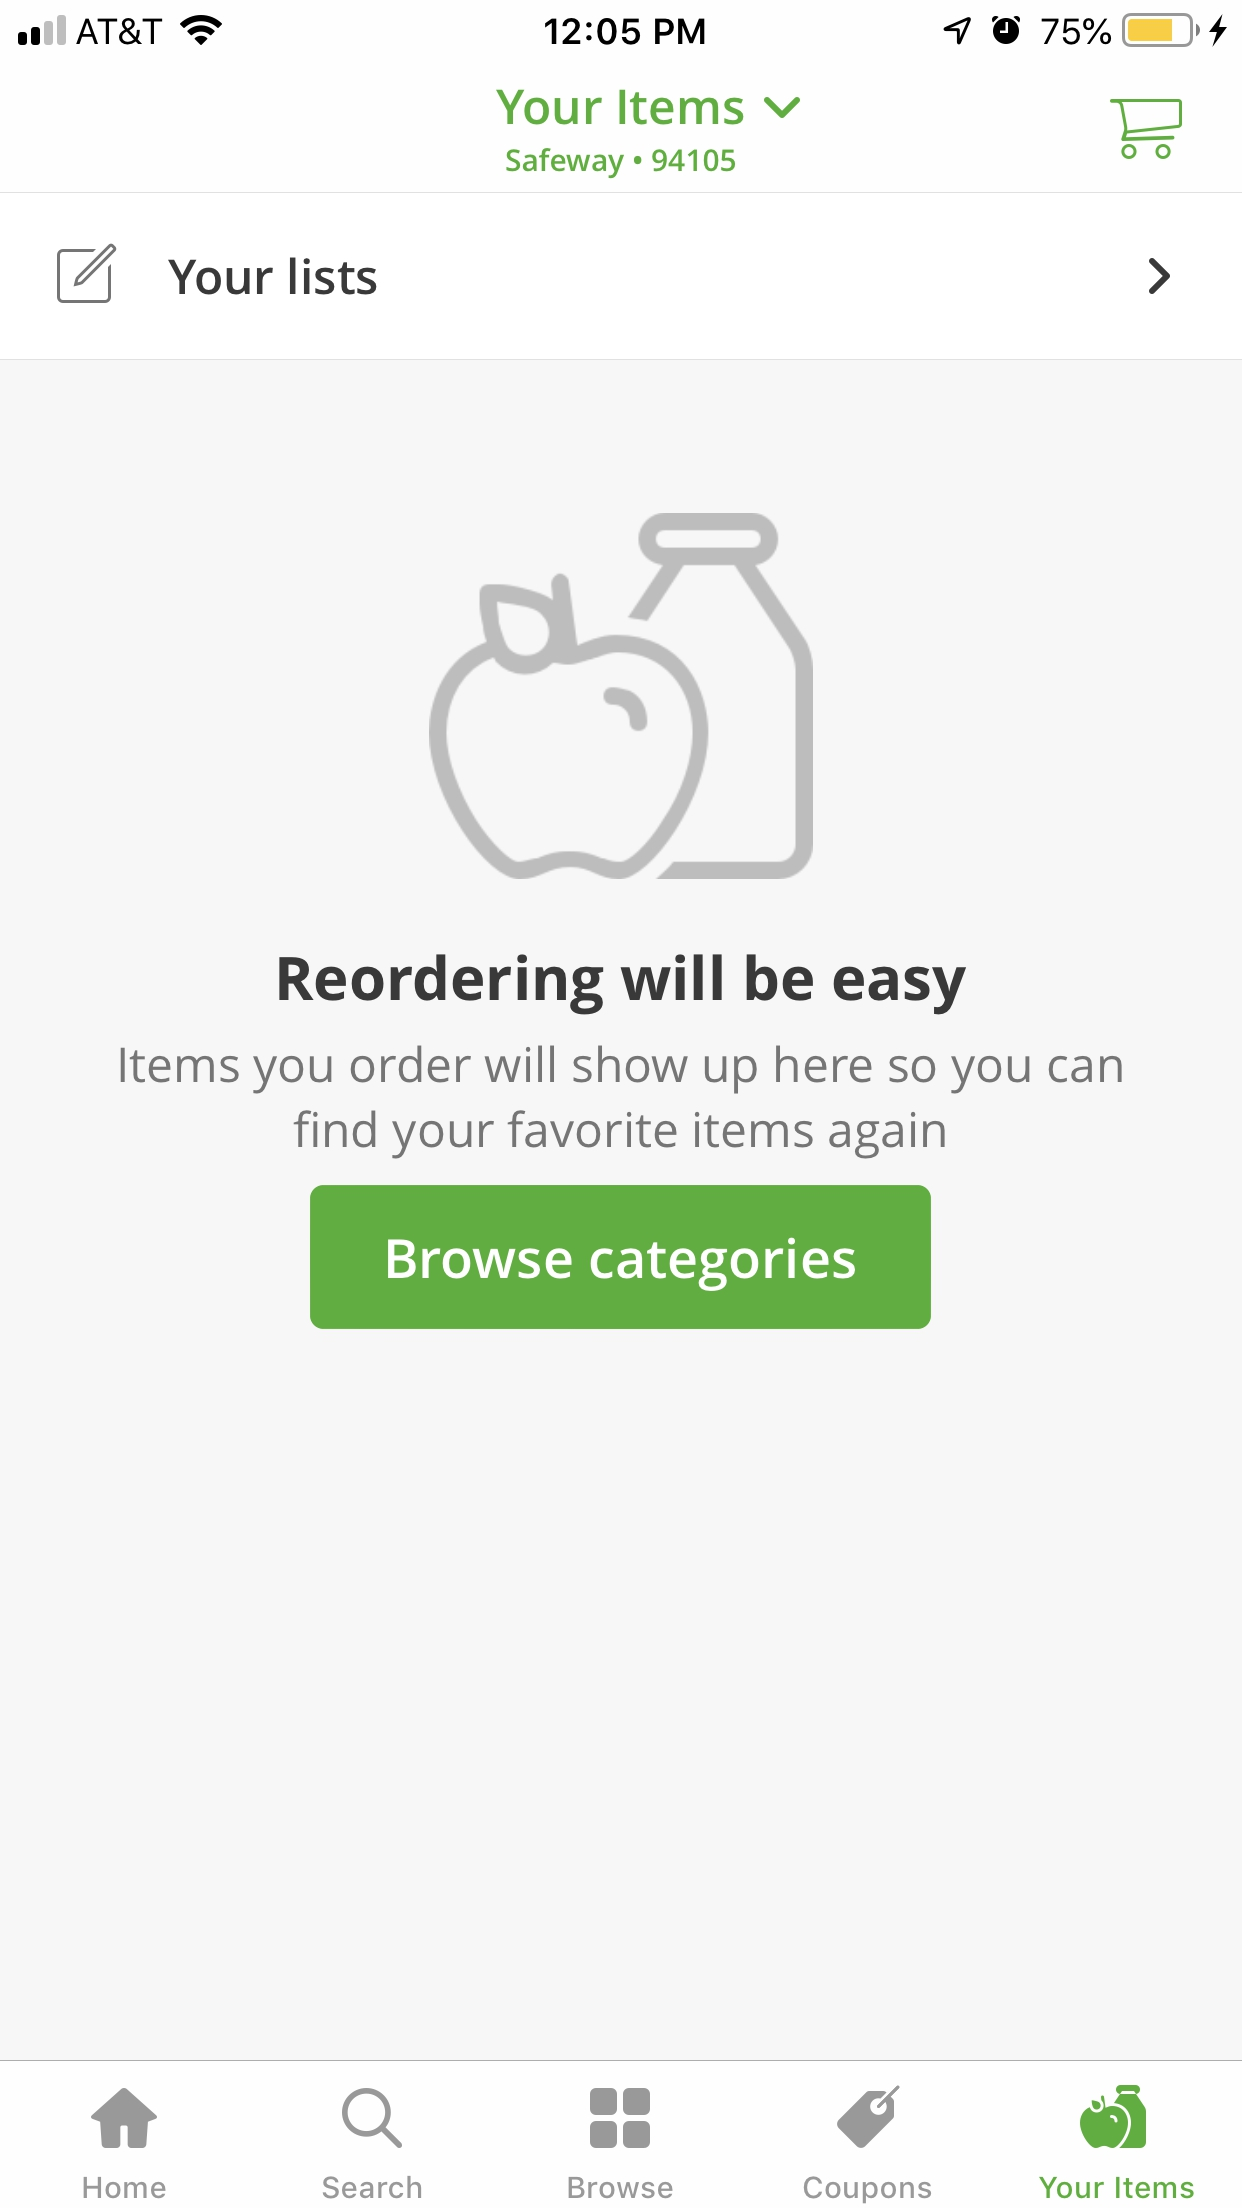Icon: (1109, 99, 1183, 161), (836, 2084, 901, 2149), (91, 2087, 159, 2149), (588, 2087, 651, 2149), (58, 243, 118, 305), (343, 2087, 403, 2149), (763, 97, 801, 120), (1148, 258, 1171, 296)
Image: (429, 513, 814, 881), (1080, 2084, 1146, 2149)
Text: (120, 1043, 1124, 1160), (279, 954, 968, 1016), (496, 89, 745, 127), (168, 256, 378, 296), (507, 149, 737, 180), (804, 2175, 933, 2205), (1039, 2175, 1195, 2199), (323, 2175, 423, 2200), (569, 2175, 673, 2199), (83, 2176, 168, 2199)
TextButton: (309, 1184, 933, 1330)
UpperTaskBar: (2, 2, 1242, 49)
